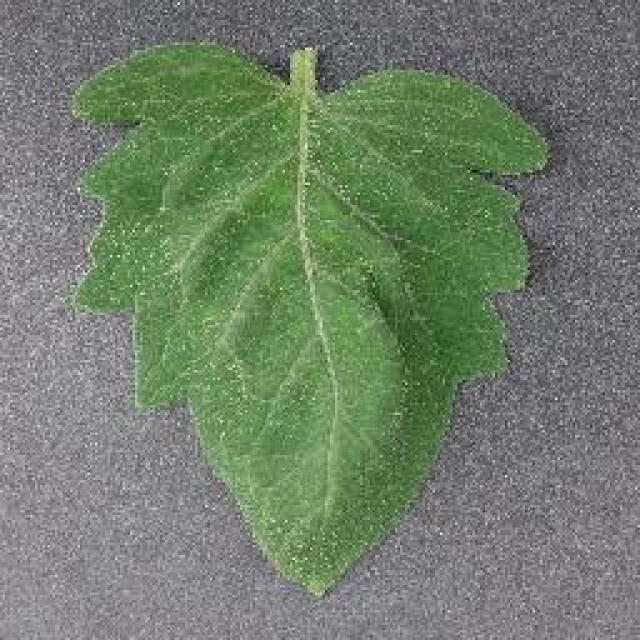healthy: (71, 43, 548, 600)
